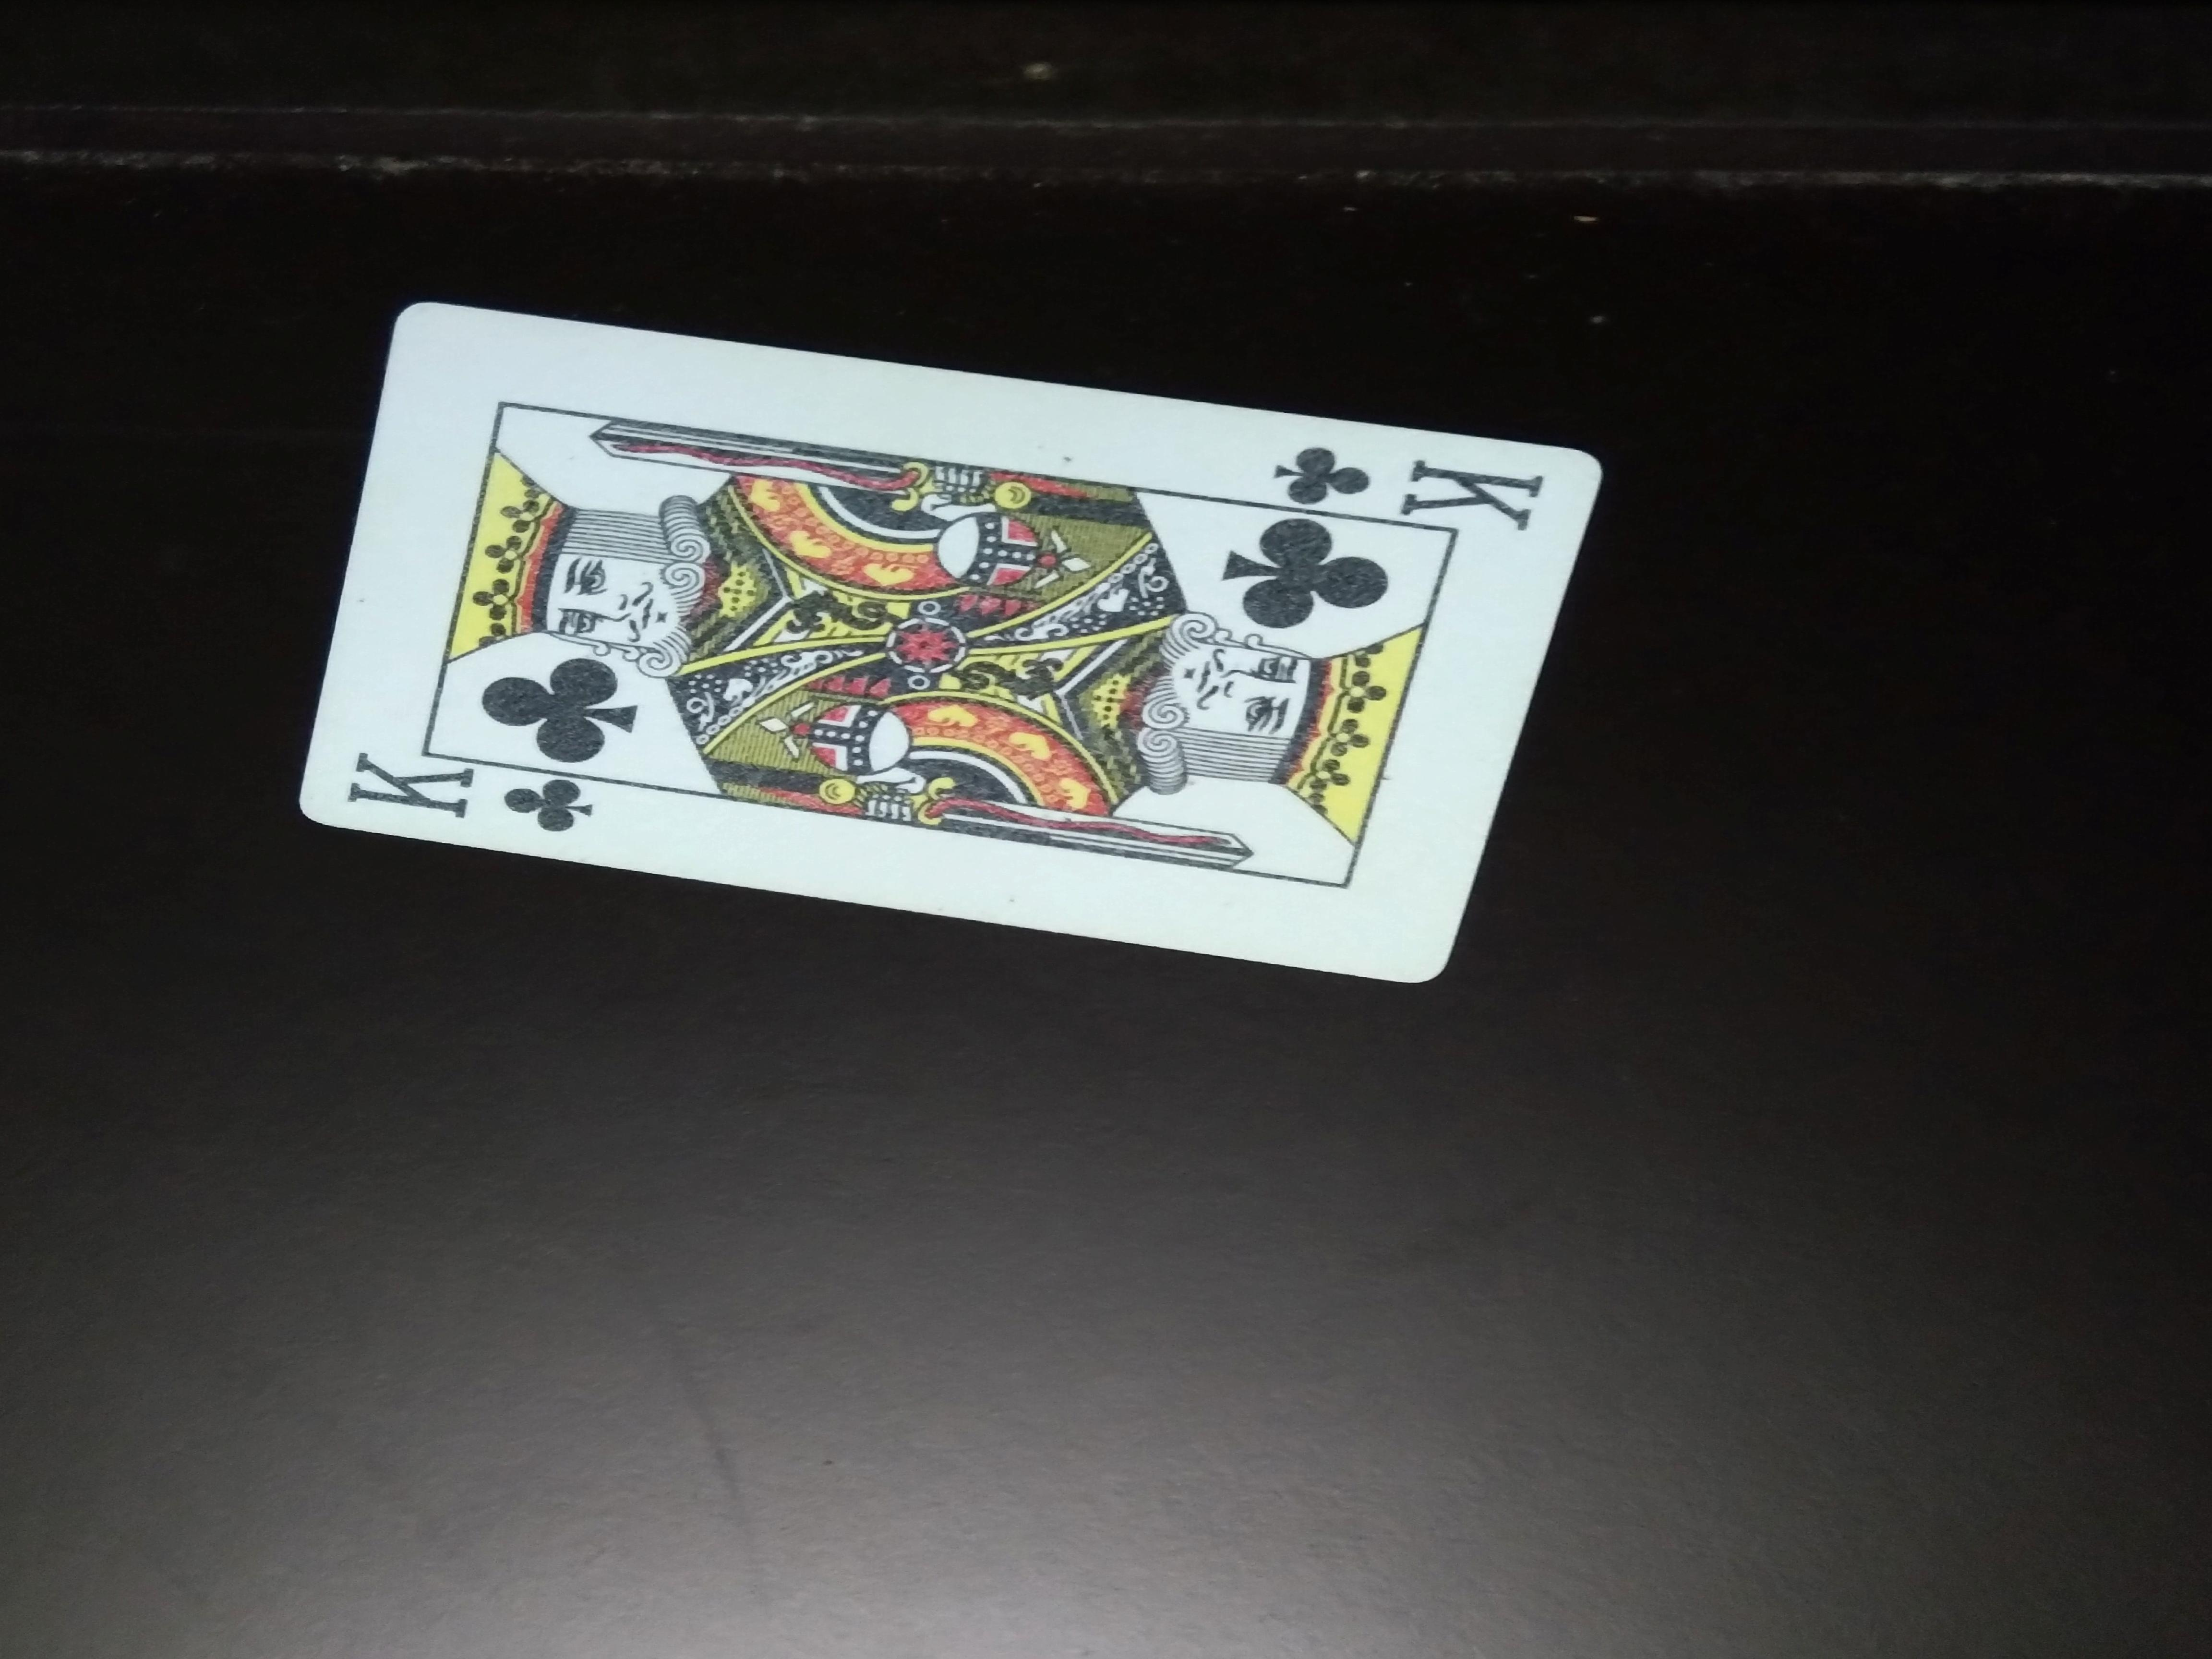KC: (1252, 429, 1566, 542)
